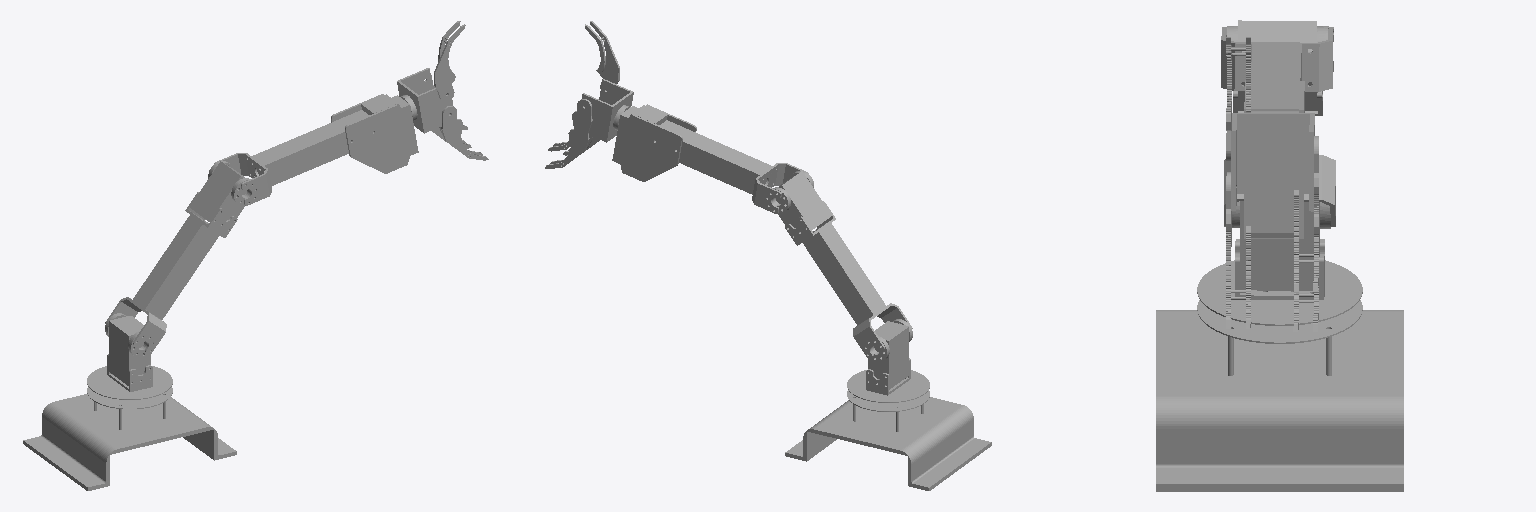
robot.urdf — test:
<?xml version="1.0" ?>
<!-- =================================================================================== -->
<!-- |    This document was autogenerated by xacro from urdf/test.xacro                | -->
<!-- |    EDITING THIS FILE BY HAND IS NOT RECOMMENDED                                 | -->
<!-- =================================================================================== -->
<robot xmlns:xacro="http://www.ros.org/wiki/xacro" name="test">
  <material name="silver">
    <color rgba="0.700 0.700 0.700 1.000"/>
  </material>
  <transmission name="Revolute 1_tran">
    <type>transmission_interface/SimpleTransmission</type>
    <joint name="Revolute 1">
      <hardwareInterface>hardware_interface/EffortJointInterface</hardwareInterface>
    </joint>
    <actuator name="Revolute 1_actr">
      <hardwareInterface>hardware_interface/EffortJointInterface</hardwareInterface>
      <mechanicalReduction>1</mechanicalReduction>
    </actuator>
  </transmission>
  <transmission name="Revolute 5_tran">
    <type>transmission_interface/SimpleTransmission</type>
    <joint name="Revolute 5">
      <hardwareInterface>hardware_interface/EffortJointInterface</hardwareInterface>
    </joint>
    <actuator name="Revolute 5_actr">
      <hardwareInterface>hardware_interface/EffortJointInterface</hardwareInterface>
      <mechanicalReduction>1</mechanicalReduction>
    </actuator>
  </transmission>
  <transmission name="Revolute 6_tran">
    <type>transmission_interface/SimpleTransmission</type>
    <joint name="Revolute 6">
      <hardwareInterface>hardware_interface/EffortJointInterface</hardwareInterface>
    </joint>
    <actuator name="Revolute 6_actr">
      <hardwareInterface>hardware_interface/EffortJointInterface</hardwareInterface>
      <mechanicalReduction>1</mechanicalReduction>
    </actuator>
  </transmission>
  <transmission name="Revolute 7_tran">
    <type>transmission_interface/SimpleTransmission</type>
    <joint name="Revolute 7">
      <hardwareInterface>hardware_interface/EffortJointInterface</hardwareInterface>
    </joint>
    <actuator name="Revolute 7_actr">
      <hardwareInterface>hardware_interface/EffortJointInterface</hardwareInterface>
      <mechanicalReduction>1</mechanicalReduction>
    </actuator>
  </transmission>
  <transmission name="Revolute 8_tran">
    <type>transmission_interface/SimpleTransmission</type>
    <joint name="Revolute 8">
      <hardwareInterface>hardware_interface/EffortJointInterface</hardwareInterface>
    </joint>
    <actuator name="Revolute 8_actr">
      <hardwareInterface>hardware_interface/EffortJointInterface</hardwareInterface>
      <mechanicalReduction>1</mechanicalReduction>
    </actuator>
  </transmission>
  <transmission name="Revolute 9_tran">
    <type>transmission_interface/SimpleTransmission</type>
    <joint name="Revolute 9">
      <hardwareInterface>hardware_interface/EffortJointInterface</hardwareInterface>
    </joint>
    <actuator name="Revolute 9_actr">
      <hardwareInterface>hardware_interface/EffortJointInterface</hardwareInterface>
      <mechanicalReduction>1</mechanicalReduction>
    </actuator>
  </transmission>
  <transmission name="Revolute 10_tran">
    <type>transmission_interface/SimpleTransmission</type>
    <joint name="Revolute 10">
      <hardwareInterface>hardware_interface/EffortJointInterface</hardwareInterface>
    </joint>
    <actuator name="Revolute 10_actr">
      <hardwareInterface>hardware_interface/EffortJointInterface</hardwareInterface>
      <mechanicalReduction>1</mechanicalReduction>
    </actuator>
  </transmission>
  <transmission name="Revolute 11_tran">
    <type>transmission_interface/SimpleTransmission</type>
    <joint name="Revolute 11">
      <hardwareInterface>hardware_interface/EffortJointInterface</hardwareInterface>
    </joint>
    <actuator name="Revolute 11_actr">
      <hardwareInterface>hardware_interface/EffortJointInterface</hardwareInterface>
      <mechanicalReduction>1</mechanicalReduction>
    </actuator>
  </transmission>
  <gazebo>
    <plugin name="control" filename="libgazebo_ros_control.so"/>
  </gazebo>
  <gazebo reference="base_link">
    <material>Gazebo/Silver</material>
    <mu1>0.2</mu1>
    <mu2>0.2</mu2>
    <selfCollide>true</selfCollide>
    <gravity>true</gravity>
  </gazebo>
  <gazebo reference="robot_ver7_link_1_v1_1">
    <material>Gazebo/Silver</material>
    <mu1>0.2</mu1>
    <mu2>0.2</mu2>
    <selfCollide>true</selfCollide>
  </gazebo>
  <gazebo reference="robot_ver7_link_2_v1_1">
    <material>Gazebo/Silver</material>
    <mu1>0.2</mu1>
    <mu2>0.2</mu2>
    <selfCollide>true</selfCollide>
  </gazebo>
  <gazebo reference="robot_ver7_link_3_v1_1">
    <material>Gazebo/Silver</material>
    <mu1>0.2</mu1>
    <mu2>0.2</mu2>
    <selfCollide>true</selfCollide>
  </gazebo>
  <gazebo reference="robot_ver7_link_4_v1_1">
    <material>Gazebo/Silver</material>
    <mu1>0.2</mu1>
    <mu2>0.2</mu2>
    <selfCollide>true</selfCollide>
  </gazebo>
  <gazebo reference="robot_ver7_grap_1_v1_1">
    <material>Gazebo/Silver</material>
    <mu1>0.2</mu1>
    <mu2>0.2</mu2>
    <selfCollide>true</selfCollide>
  </gazebo>
  <gazebo reference="robot_ver7_grap_2_v1_1">
    <material>Gazebo/Silver</material>
    <mu1>0.2</mu1>
    <mu2>0.2</mu2>
    <selfCollide>true</selfCollide>
  </gazebo>
  <gazebo reference="robot_ver7_grap_1_v1__1__1">
    <material>Gazebo/Silver</material>
    <mu1>0.2</mu1>
    <mu2>0.2</mu2>
    <selfCollide>true</selfCollide>
  </gazebo>
  <gazebo reference="robot_ver7_grap2_2_v1_1">
    <material>Gazebo/Silver</material>
    <mu1>0.2</mu1>
    <mu2>0.2</mu2>
    <selfCollide>true</selfCollide>
  </gazebo>
  <link name="base_link">
    <inertial>
      <origin xyz="2.989375374043843 1.1164329046590977 0.031849440895134605" rpy="0 0 0"/>
      <mass value="1.6067306789990348"/>
      <inertia ixx="0.003521" iyy="0.006468" izz="0.008802" ixy="0.0" iyz="-0.0" ixz="0.0"/>
    </inertial>
    <visual>
      <origin xyz="0 0 0" rpy="0 0 0"/>
      <geometry>
        <mesh filename="package://test_description/meshes/base_link.stl" scale="0.001 0.001 0.001"/>
      </geometry>
      <material name="silver"/>
    </visual>
    <collision>
      <origin xyz="0 0 0" rpy="0 0 0"/>
      <geometry>
        <mesh filename="package://test_description/meshes/base_link.stl" scale="0.001 0.001 0.001"/>
      </geometry>
    </collision>
  </link>
  <link name="robot_ver7_link_1_v1_1">
    <inertial>
      <origin xyz="3.723062595994975e-07 -2.61405432855355e-07 0.04484445545928609" rpy="0 0 0"/>
      <mass value="0.8724221516718077"/>
      <inertia ixx="0.000636" iyy="0.000529" izz="0.000308" ixy="-1e-06" iyz="-0.0" ixz="-0.0"/>
    </inertial>
    <visual>
      <origin xyz="-2.989375 -1.116433 -0.077907" rpy="0 0 0"/>
      <geometry>
        <mesh filename="package://test_description/meshes/robot_ver7_link_1_v1_1.stl" scale="0.001 0.001 0.001"/>
      </geometry>
      <material name="silver"/>
    </visual>
    <collision>
      <origin xyz="-2.989375 -1.116433 -0.077907" rpy="0 0 0"/>
      <geometry>
        <mesh filename="package://test_description/meshes/robot_ver7_link_1_v1_1.stl" scale="0.001 0.001 0.001"/>
      </geometry>
    </collision>
  </link>
  <link name="robot_ver7_link_2_v1_1">
    <inertial>
      <origin xyz="0.08483965943212013 -0.0008876857844917208 0.1011125823351422" rpy="0 0 0"/>
      <mass value="1.7894494256516231"/>
      <inertia ixx="0.00475" iyy="0.007559" izz="0.003484" ixy="2.9e-05" iyz="3.8e-05" ixz="-0.003589"/>
    </inertial>
    <visual>
      <origin xyz="-2.989375 -1.116433 -0.148249" rpy="0 0 0"/>
      <geometry>
        <mesh filename="package://test_description/meshes/robot_ver7_link_2_v1_1.stl" scale="0.001 0.001 0.001"/>
      </geometry>
      <material name="silver"/>
    </visual>
    <collision>
      <origin xyz="-2.989375 -1.116433 -0.148249" rpy="0 0 0"/>
      <geometry>
        <mesh filename="package://test_description/meshes/robot_ver7_link_2_v1_1.stl" scale="0.001 0.001 0.001"/>
      </geometry>
    </collision>
  </link>
  <link name="robot_ver7_link_3_v1_1">
    <inertial>
      <origin xyz="0.14821876017787927 -0.0015503771854283865 0.01783008469497005" rpy="0 0 0"/>
      <mass value="2.3011672222568844"/>
      <inertia ixx="0.00103" iyy="0.01073" izz="0.010331" ixy="0.000102" iyz="6e-06" ixz="-0.000548"/>
    </inertial>
    <visual>
      <origin xyz="-3.127144 -1.114991 -0.312444" rpy="0 0 0"/>
      <geometry>
        <mesh filename="package://test_description/meshes/robot_ver7_link_3_v1_1.stl" scale="0.001 0.001 0.001"/>
      </geometry>
      <material name="silver"/>
    </visual>
    <collision>
      <origin xyz="-3.127144 -1.114991 -0.312444" rpy="0 0 0"/>
      <geometry>
        <mesh filename="package://test_description/meshes/robot_ver7_link_3_v1_1.stl" scale="0.001 0.001 0.001"/>
      </geometry>
    </collision>
  </link>
  <link name="robot_ver7_link_4_v1_1">
    <inertial>
      <origin xyz="0.01789174558739237 -0.00018708964514657644 0.0031552779595753755" rpy="0 0 0"/>
      <mass value="0.1836674229836166"/>
      <inertia ixx="0.0001" iyy="7.1e-05" izz="0.000103" ixy="-0.0" iyz="0.0" ixz="-1e-06"/>
    </inertial>
    <visual>
      <origin xyz="-3.357415 -1.112582 -0.35457" rpy="0 0 0"/>
      <geometry>
        <mesh filename="package://test_description/meshes/robot_ver7_link_4_v1_1.stl" scale="0.001 0.001 0.001"/>
      </geometry>
      <material name="silver"/>
    </visual>
    <collision>
      <origin xyz="-3.357415 -1.112582 -0.35457" rpy="0 0 0"/>
      <geometry>
        <mesh filename="package://test_description/meshes/robot_ver7_link_4_v1_1.stl" scale="0.001 0.001 0.001"/>
      </geometry>
    </collision>
  </link>
  <link name="robot_ver7_grap_1_v1_1">
    <inertial>
      <origin xyz="0.0007287813526297704 0.0011054197772870644 0.03524107513537761" rpy="0 0 0"/>
      <mass value="0.04062678364093055"/>
      <inertia ixx="2.5e-05" iyy="2.7e-05" izz="4e-06" ixy="-1e-06" iyz="-2e-06" ixz="-4e-06"/>
    </inertial>
    <visual>
      <origin xyz="-3.39654 -1.087171 -0.374208" rpy="0 0 0"/>
      <geometry>
        <mesh filename="package://test_description/meshes/robot_ver7_grap_1_v1_1.stl" scale="0.001 0.001 0.001"/>
      </geometry>
      <material name="silver"/>
    </visual>
    <collision>
      <origin xyz="-3.39654 -1.087171 -0.374208" rpy="0 0 0"/>
      <geometry>
        <mesh filename="package://test_description/meshes/robot_ver7_grap_1_v1_1.stl" scale="0.001 0.001 0.001"/>
      </geometry>
    </collision>
  </link>
  <link name="robot_ver7_grap_2_v1_1">
    <inertial>
      <origin xyz="0.011590758713310834 0.0009913512471946273 -0.031231536434928375" rpy="0 0 0"/>
      <mass value="0.040626783640931016"/>
      <inertia ixx="2e-05" iyy="2.7e-05" izz="9e-06" ixy="-1e-06" iyz="2e-06" ixz="1e-05"/>
    </inertial>
    <visual>
      <origin xyz="-3.400881 -1.087126 -0.349588" rpy="0 0 0"/>
      <geometry>
        <mesh filename="package://test_description/meshes/robot_ver7_grap_2_v1_1.stl" scale="0.001 0.001 0.001"/>
      </geometry>
      <material name="silver"/>
    </visual>
    <collision>
      <origin xyz="-3.400881 -1.087126 -0.349588" rpy="0 0 0"/>
      <geometry>
        <mesh filename="package://test_description/meshes/robot_ver7_grap_2_v1_1.stl" scale="0.001 0.001 0.001"/>
      </geometry>
    </collision>
  </link>
  <link name="robot_ver7_grap_1_v1__1__1">
    <inertial>
      <origin xyz="0.012714688362728488 -0.001245476317553118 -0.032869840523503724" rpy="0 0 0"/>
      <mass value="0.04062678364093055"/>
      <inertia ixx="2e-05" iyy="2.7e-05" izz="9e-06" ixy="1e-06" iyz="-2e-06" ixz="1e-05"/>
    </inertial>
    <visual>
      <origin xyz="-3.401404 -1.137123 -0.349588" rpy="0 0 0"/>
      <geometry>
        <mesh filename="package://test_description/meshes/robot_ver7_grap_1_v1__1__1.stl" scale="0.001 0.001 0.001"/>
      </geometry>
      <material name="silver"/>
    </visual>
    <collision>
      <origin xyz="-3.401404 -1.137123 -0.349588" rpy="0 0 0"/>
      <geometry>
        <mesh filename="package://test_description/meshes/robot_ver7_grap_1_v1__1__1.stl" scale="0.001 0.001 0.001"/>
      </geometry>
    </collision>
  </link>
  <link name="robot_ver7_grap2_2_v1_1">
    <inertial>
      <origin xyz="0.012714721526189354 -0.001246056844941279 -0.03286964669820108" rpy="0 0 0"/>
      <mass value="0.040626783640930315"/>
      <inertia ixx="2e-05" iyy="2.7e-05" izz="9e-06" ixy="1e-06" iyz="-2e-06" ixz="1e-05"/>
    </inertial>
    <visual>
      <origin xyz="-3.397063 -1.137169 -0.374208" rpy="0 0 0"/>
      <geometry>
        <mesh filename="package://test_description/meshes/robot_ver7_grap2_2_v1_1.stl" scale="0.001 0.001 0.001"/>
      </geometry>
      <material name="silver"/>
    </visual>
    <collision>
      <origin xyz="-3.397063 -1.137169 -0.374208" rpy="0 0 0"/>
      <geometry>
        <mesh filename="package://test_description/meshes/robot_ver7_grap2_2_v1_1.stl" scale="0.001 0.001 0.001"/>
      </geometry>
    </collision>
  </link>
  <joint name="Revolute 1" type="revolute">
    <origin xyz="2.989375 1.116433 0.077907" rpy="0 0 0"/>
    <parent link="base_link"/>
    <child link="robot_ver7_link_1_v1_1"/>
    <axis xyz="0.0 -0.0 1.0"/>
    <limit upper="6.2831853" lower="0.0" effort="100" velocity="100"/>
  </joint>
  <joint name="Revolute 5" type="revolute">
    <origin xyz="0.0 0.0 0.070342" rpy="0 0 0"/>
    <parent link="robot_ver7_link_1_v1_1"/>
    <child link="robot_ver7_link_2_v1_1"/>
    <axis xyz="-0.010462 -0.999945 -0.0"/>
    <limit upper="6.2831853" lower="0.0" effort="100" velocity="100"/>
  </joint>
  <joint name="Revolute 6" type="revolute">
    <origin xyz="0.137769 -0.001442 0.164195" rpy="0 0 0"/>
    <parent link="robot_ver7_link_2_v1_1"/>
    <child link="robot_ver7_link_3_v1_1"/>
    <axis xyz="-0.010462 -0.999945 -0.0"/>
    <limit upper="6.2831853" lower="0.0" effort="100" velocity="100"/>
  </joint>
  <joint name="Revolute 7" type="revolute">
    <origin xyz="0.230271 -0.002409 0.042126" rpy="0 0 0"/>
    <parent link="robot_ver7_link_3_v1_1"/>
    <child link="robot_ver7_link_4_v1_1"/>
    <axis xyz="0.984754 -0.010303 0.173648"/>
    <limit upper="6.2831853" lower="0.0" effort="100" velocity="100"/>
  </joint>
  <joint name="Revolute 8" type="continuous">
    <origin xyz="0.039125 -0.025411 0.019638" rpy="0 0 0"/>
    <parent link="robot_ver7_link_4_v1_1"/>
    <child link="robot_ver7_grap_1_v1_1"/>
    <axis xyz="-0.010462 -0.999945 -0.0"/>
  </joint>
  <joint name="Revolute 9" type="continuous">
    <origin xyz="0.043466 -0.025456 -0.004982" rpy="0 0 0"/>
    <parent link="robot_ver7_link_4_v1_1"/>
    <child link="robot_ver7_grap_2_v1_1"/>
    <axis xyz="-0.010462 -0.999945 -0.0"/>
  </joint>
  <joint name="Revolute 10" type="continuous">
    <origin xyz="0.043989 0.024541 -0.004982" rpy="0 0 0"/>
    <parent link="robot_ver7_link_4_v1_1"/>
    <child link="robot_ver7_grap_1_v1__1__1"/>
    <axis xyz="0.010462 0.999945 0.0"/>
  </joint>
  <joint name="Revolute 11" type="continuous">
    <origin xyz="0.039648 0.024587 0.019638" rpy="0 0 0"/>
    <parent link="robot_ver7_link_4_v1_1"/>
    <child link="robot_ver7_grap2_2_v1_1"/>
    <axis xyz="0.010462 0.999945 0.0"/>
  </joint>
</robot>

--- What the picture shows (computed from the rendered views, not written in the file) ---
The picture shows the robot from 3 angles, left to right: view 1: azimuth 30°, elevation 25°; view 2: azimuth 150°, elevation 25°; view 3: azimuth 270°, elevation 25°; orthographic projection.
Model test with 9 links and 8 joints (4 revolute, 4 continuous), rooted at base_link, posed all joints at 0.
Visible links, largest first — view 1: base_link, robot_ver7_link_3_v1_1, robot_ver7_link_2_v1_1, robot_ver7_link_1_v1_1, robot_ver7_link_4_v1_1, robot_ver7_grap_1_v1_1, robot_ver7_grap_2_v1_1; view 2: base_link, robot_ver7_link_3_v1_1, robot_ver7_link_2_v1_1, robot_ver7_link_1_v1_1, robot_ver7_link_4_v1_1, robot_ver7_grap_1_v1_1, robot_ver7_grap2_2_v1_1, robot_ver7_grap_1_v1__1__1; view 3: base_link, robot_ver7_link_1_v1_1, robot_ver7_link_3_v1_1, robot_ver7_link_4_v1_1, robot_ver7_link_2_v1_1, robot_ver7_grap_2_v1_1, robot_ver7_grap2_2_v1_1, robot_ver7_grap_1_v1_1, robot_ver7_grap_1_v1__1__1.
Boxes of the visible links, x1=… form: base_link: x1=23, y1=387, x2=236, y2=490; robot_ver7_link_3_v1_1: x1=208, y1=94, x2=418, y2=205; robot_ver7_link_2_v1_1: x1=105, y1=161, x2=247, y2=357; robot_ver7_link_1_v1_1: x1=87, y1=316, x2=172, y2=399; robot_ver7_link_4_v1_1: x1=397, y1=68, x2=453, y2=133; robot_ver7_grap_1_v1_1: x1=434, y1=21, x2=465, y2=101; robot_ver7_grap_2_v1_1: x1=441, y1=106, x2=488, y2=160; base_link: x1=785, y1=390, x2=991, y2=490; robot_ver7_link_3_v1_1: x1=612, y1=104, x2=813, y2=213; robot_ver7_link_2_v1_1: x1=775, y1=171, x2=912, y2=361; robot_ver7_link_1_v1_1: x1=847, y1=321, x2=929, y2=402; robot_ver7_link_4_v1_1: x1=582, y1=79, x2=633, y2=142; robot_ver7_grap_1_v1_1: x1=585, y1=21, x2=619, y2=91; robot_ver7_grap2_2_v1_1: x1=548, y1=99, x2=592, y2=151; robot_ver7_grap_1_v1__1__1: x1=545, y1=117, x2=589, y2=168; base_link: x1=1156, y1=300, x2=1403, y2=491; robot_ver7_link_1_v1_1: x1=1197, y1=201, x2=1362, y2=325; robot_ver7_link_3_v1_1: x1=1221, y1=26, x2=1333, y2=238; robot_ver7_link_4_v1_1: x1=1231, y1=113, x2=1314, y2=211; robot_ver7_link_2_v1_1: x1=1224, y1=20, x2=1335, y2=228; robot_ver7_grap_2_v1_1: x1=1226, y1=172, x2=1250, y2=328; robot_ver7_grap2_2_v1_1: x1=1294, y1=136, x2=1318, y2=291; robot_ver7_grap_1_v1_1: x1=1226, y1=37, x2=1250, y2=160; robot_ver7_grap_1_v1__1__1: x1=1293, y1=214, x2=1318, y2=331.
Size in the robot's own frame: 0.5647 by 0.15 by 0.4574 metres.
9 mesh visuals loaded from 9 distinct referenced files (9 binary STL).